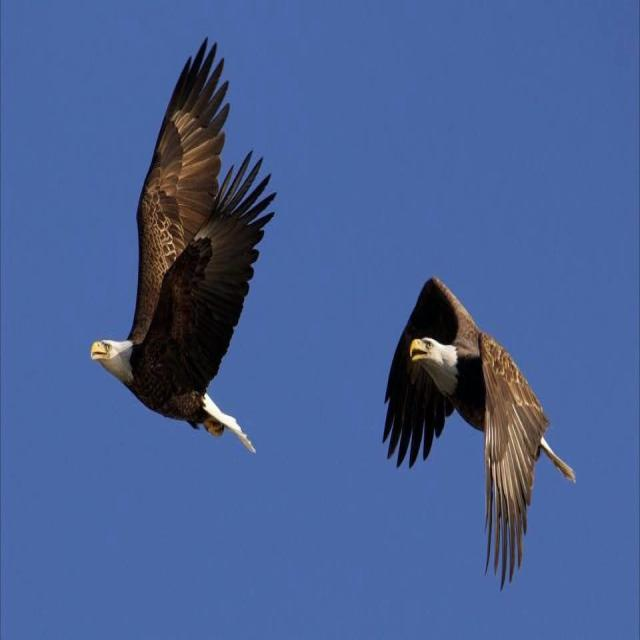Eagle: (84, 38, 270, 446), (382, 270, 570, 572)
